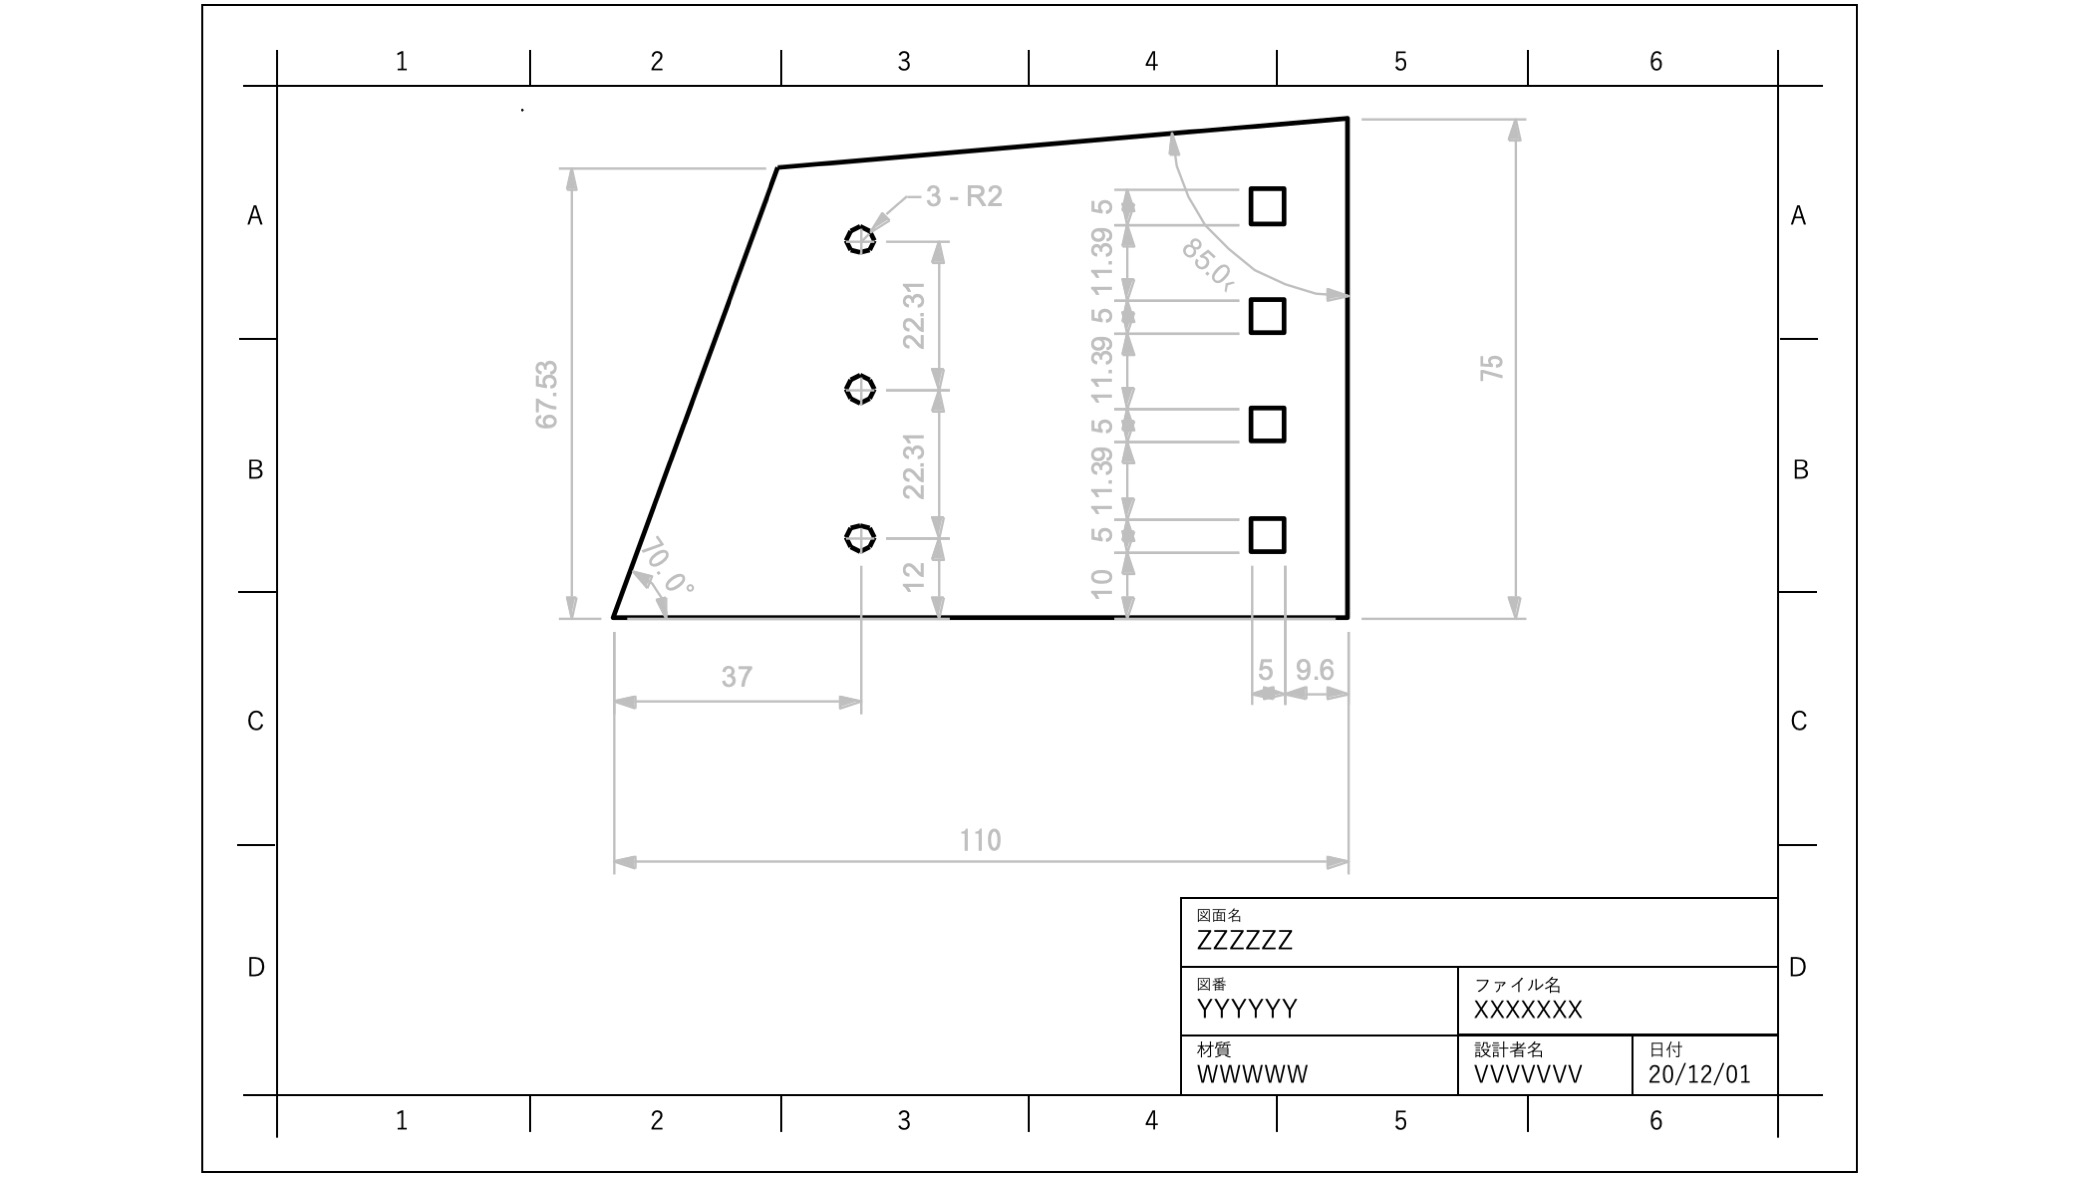circle: (842, 513, 878, 557), (839, 368, 878, 405), (839, 221, 877, 257)
rectangle: (1243, 179, 1292, 228), (1245, 290, 1291, 340), (1245, 398, 1291, 446), (1245, 510, 1291, 555)
